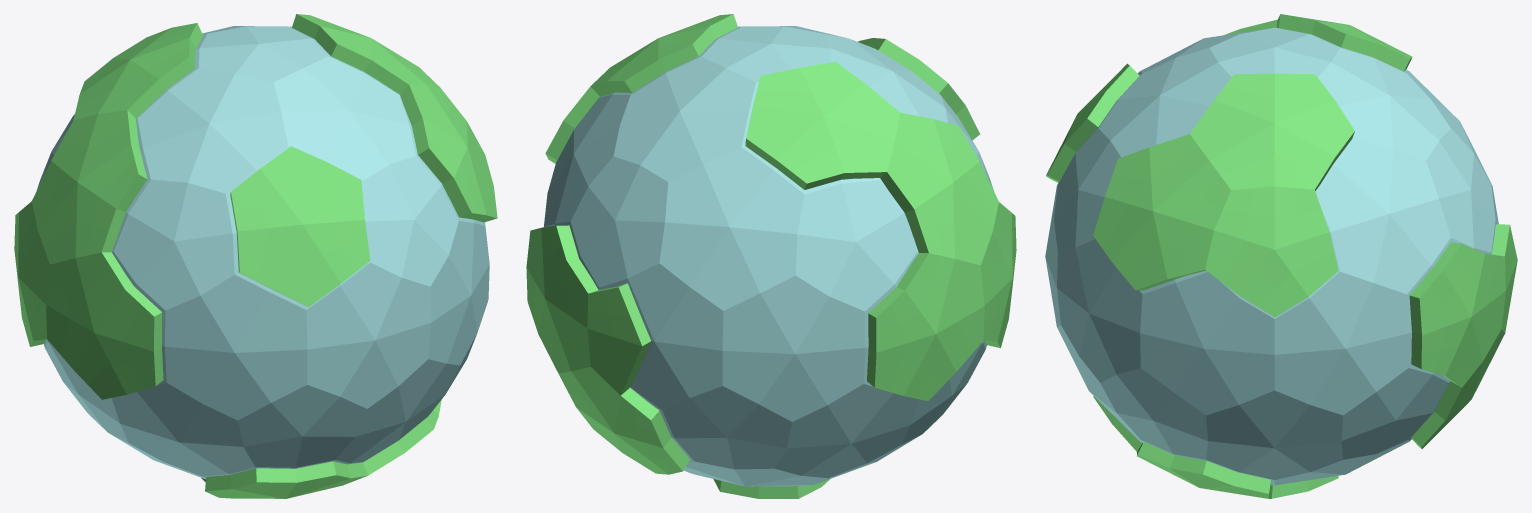
Rendered from Earth.glb.
3 renders of one model, left to right at view 1: azimuth 30°, elevation 25°; view 2: azimuth 150°, elevation 25°; view 3: azimuth 270°, elevation 25°, orthographic.
Visible parts, largest first — view 1: Water, Earth; view 2: Water, Earth; view 3: Water, Earth.
Part boxes in pixels (x1,y1,x2,y2): Water: (37, 26, 489, 479); Earth: (14, 14, 497, 498); Water: (544, 26, 993, 486); Earth: (526, 14, 1016, 498); Water: (1045, 27, 1498, 485); Earth: (1046, 14, 1517, 498).
Size of the model in its own units: 2.17 by 2.15 by 2.12.
